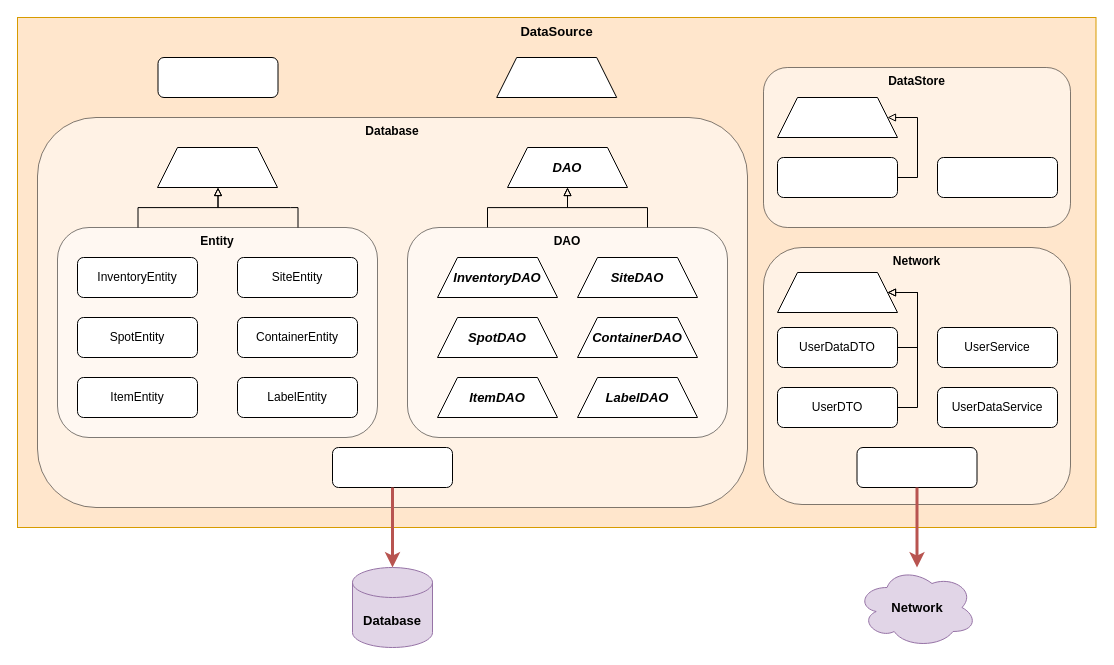
Some shapes in this 1114 by 665 pixel diagram are drawn without their labels. The shapes that lost their labels are listed below. From the top down, each one's centre as x and y in pixels, then its label:
the point at 217,77: DataSourceDIModule
the point at 556,77: DTO
the point at 837,117: Abstract DataStoreDTO
the point at 217,167: AbstractEntity
the point at 837,177: SettingsDTO
the point at 997,177: SettingsDataStore
the point at 837,292: Abstract NetworkDTO
the point at 392,467: AppDatabase
the point at 916,467: AppNetworkService
